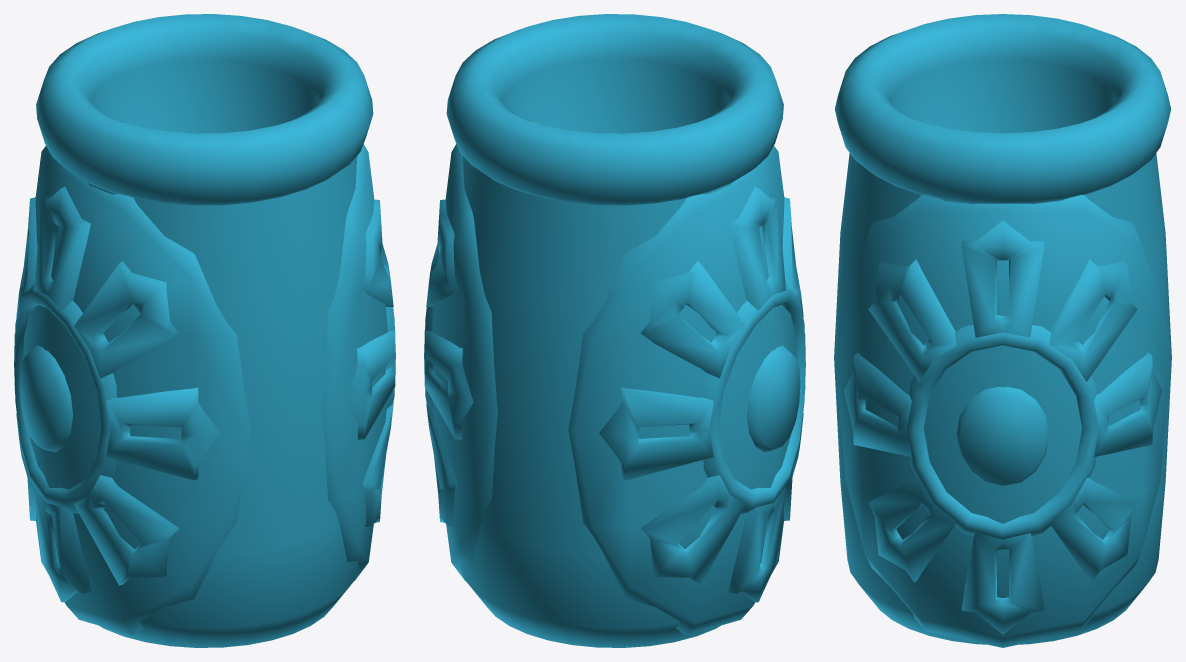
File: GB_172_vase.glb
The picture shows the model from 3 angles, left to right: view 1: azimuth 30°, elevation 25°; view 2: azimuth 150°, elevation 25°; view 3: azimuth 270°, elevation 25°; orthographic projection.
Parts seen in each view (by area): view 1: Vase; view 2: Vase; view 3: Vase.
Boxes of the visible parts, x1,y1,x2,y2 form: Vase: (14, 14, 395, 647); Vase: (424, 14, 805, 647); Vase: (834, 14, 1171, 647).
Bounding box in the file's own units: 0.7731 × 1.12 × 0.6668.
